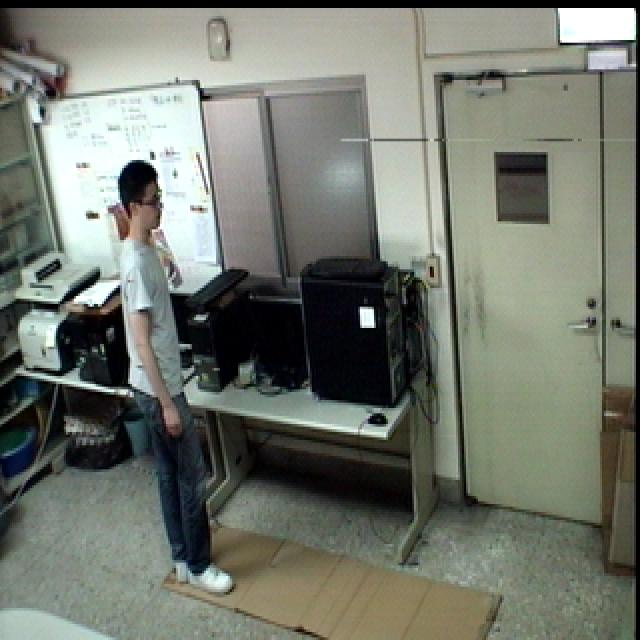stand: (112, 156, 242, 598)
